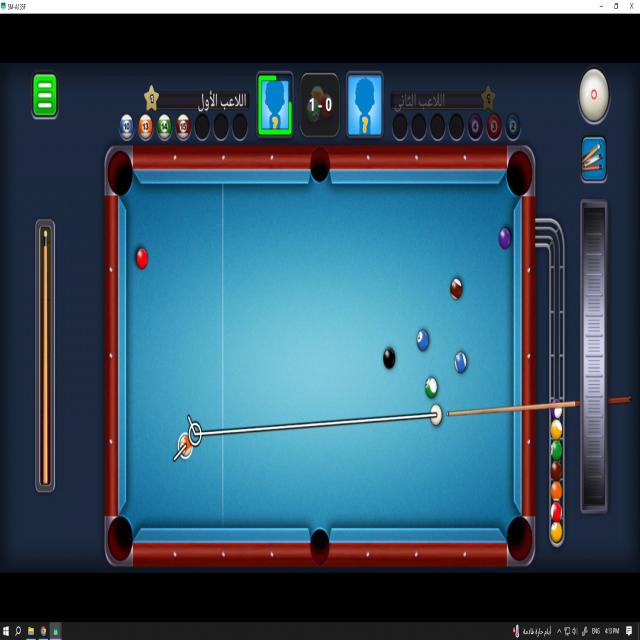object_ball: (178, 432, 193, 459), (454, 352, 467, 373), (450, 278, 462, 300), (384, 347, 396, 369), (425, 377, 437, 398), (136, 249, 148, 269), (417, 330, 428, 351), (499, 228, 510, 249)
white_cue_ball: (431, 405, 441, 426)
